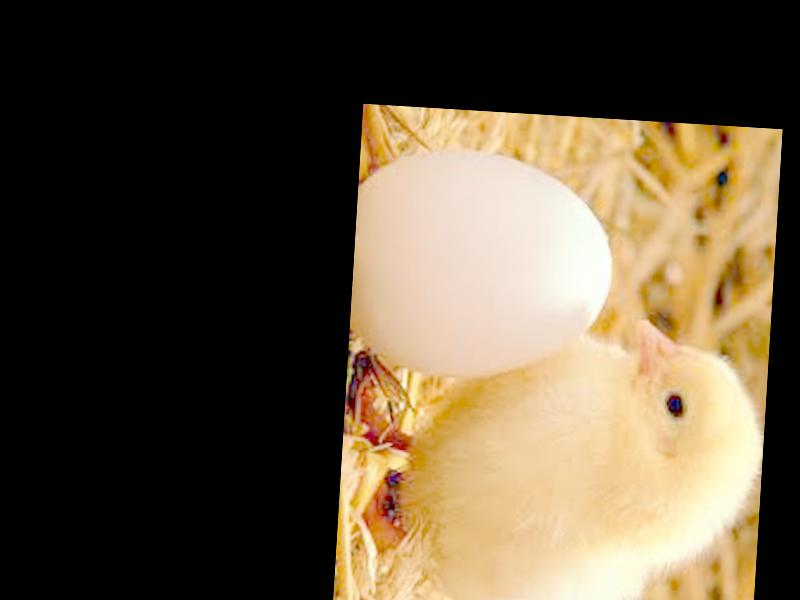Eggs: (346, 145, 619, 387)
